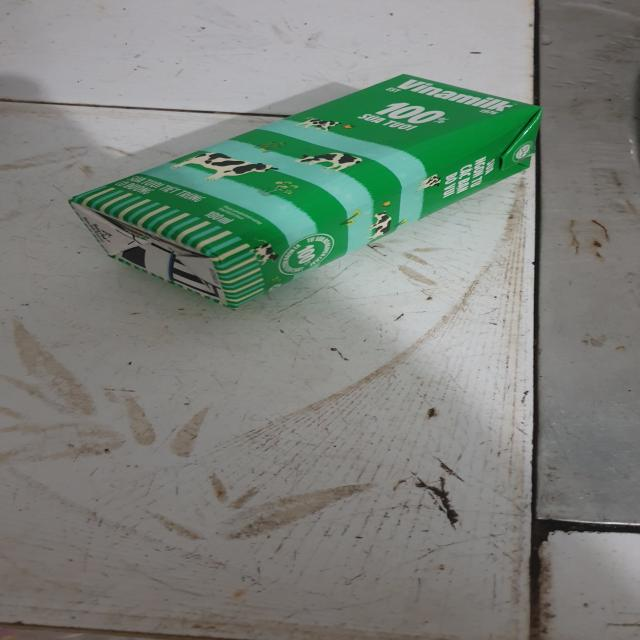Vina: (72, 74, 546, 303)
